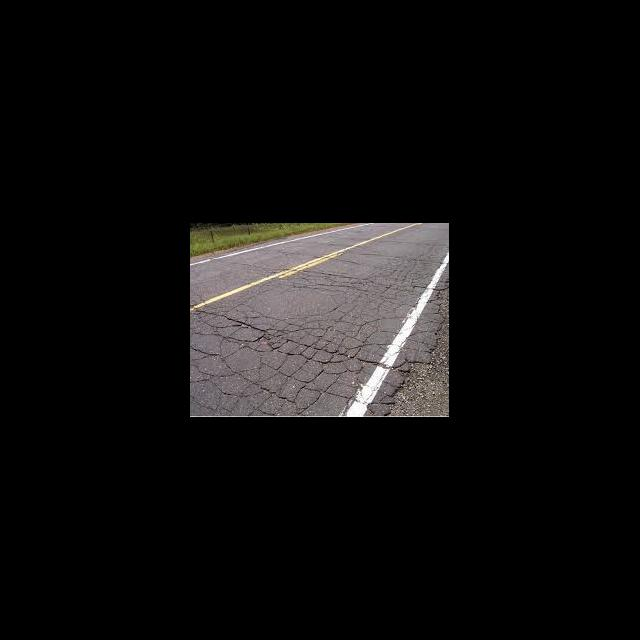retak_kulit_buaya: (190, 301, 392, 417)
